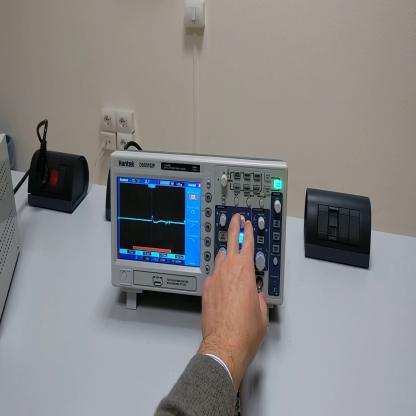hand: (201, 214, 269, 362)
oscilloscope: (114, 142, 294, 324)
power supply: (2, 133, 22, 328)
socket: (27, 149, 91, 215), (104, 165, 113, 222)
